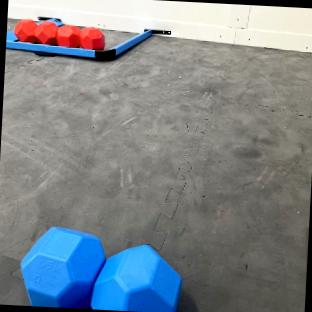V5_BLUE: (21, 226, 180, 312)
V5_RED: (12, 18, 104, 49)
